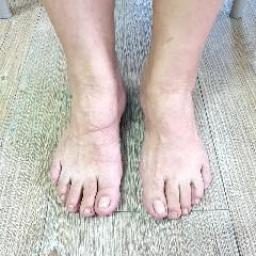Dorsal View -Both Feet-: (34, 56, 227, 232)
